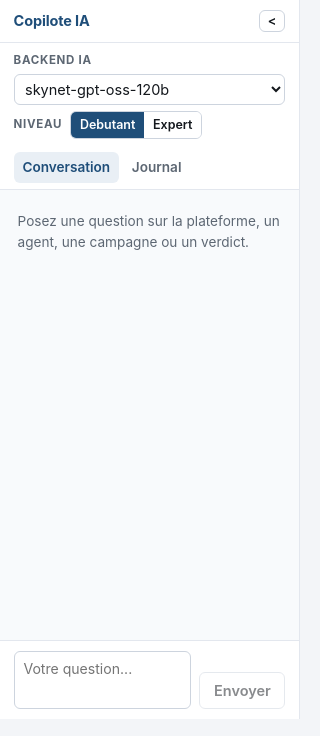
Test: AssistDock (R16 contract) › renders a source:error turn from the real failure payload
Type "test" into the text box with placeholder "Votre question...". click: (102, 680)
box: [14,651,191,709]
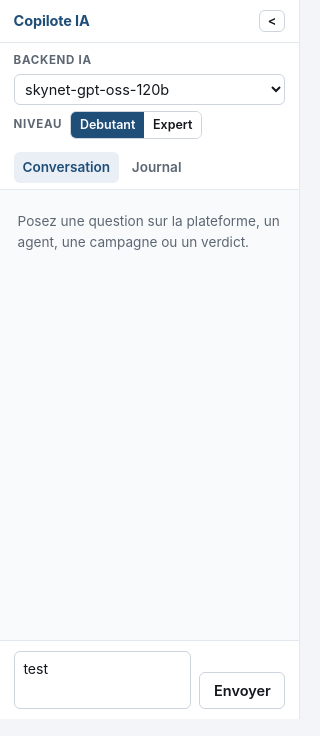
Click the button "Envoyer". click: (242, 691)
box: [199,672,285,710]
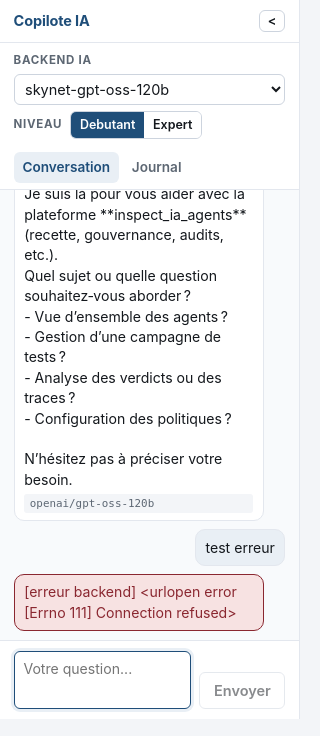
Expected: the element with test id "assist-chat-thread" shows "[erreur backend]", [24,583,241,621]
Expected: the 3rd element with class "assist-msg" is shown, [14,574,264,631]
